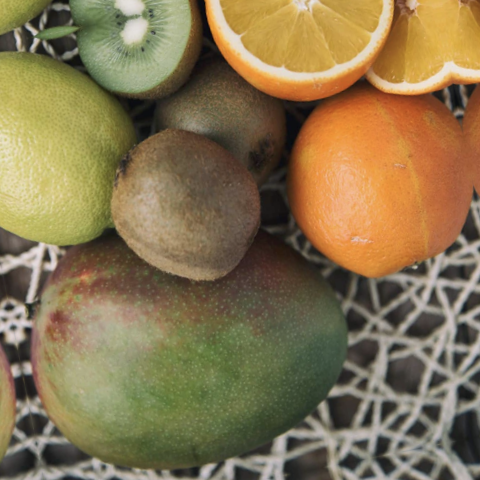kiwi: (0, 189, 403, 480), (99, 113, 274, 303)
orange: (265, 73, 480, 300)
